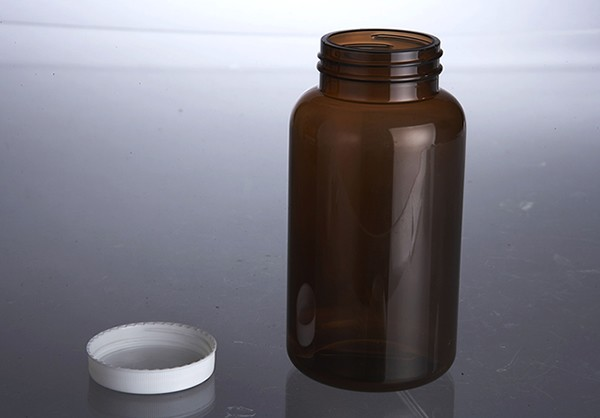medicinejar: (285, 23, 467, 391)
